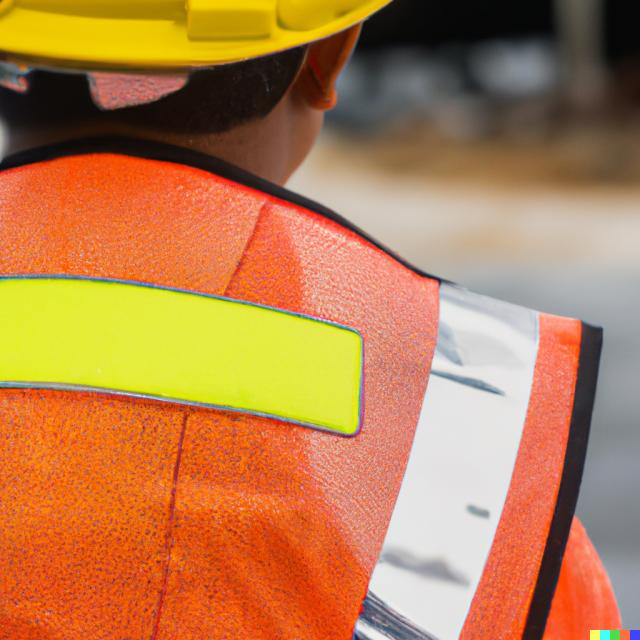Safety-Helmet: (1, 0, 403, 74)
